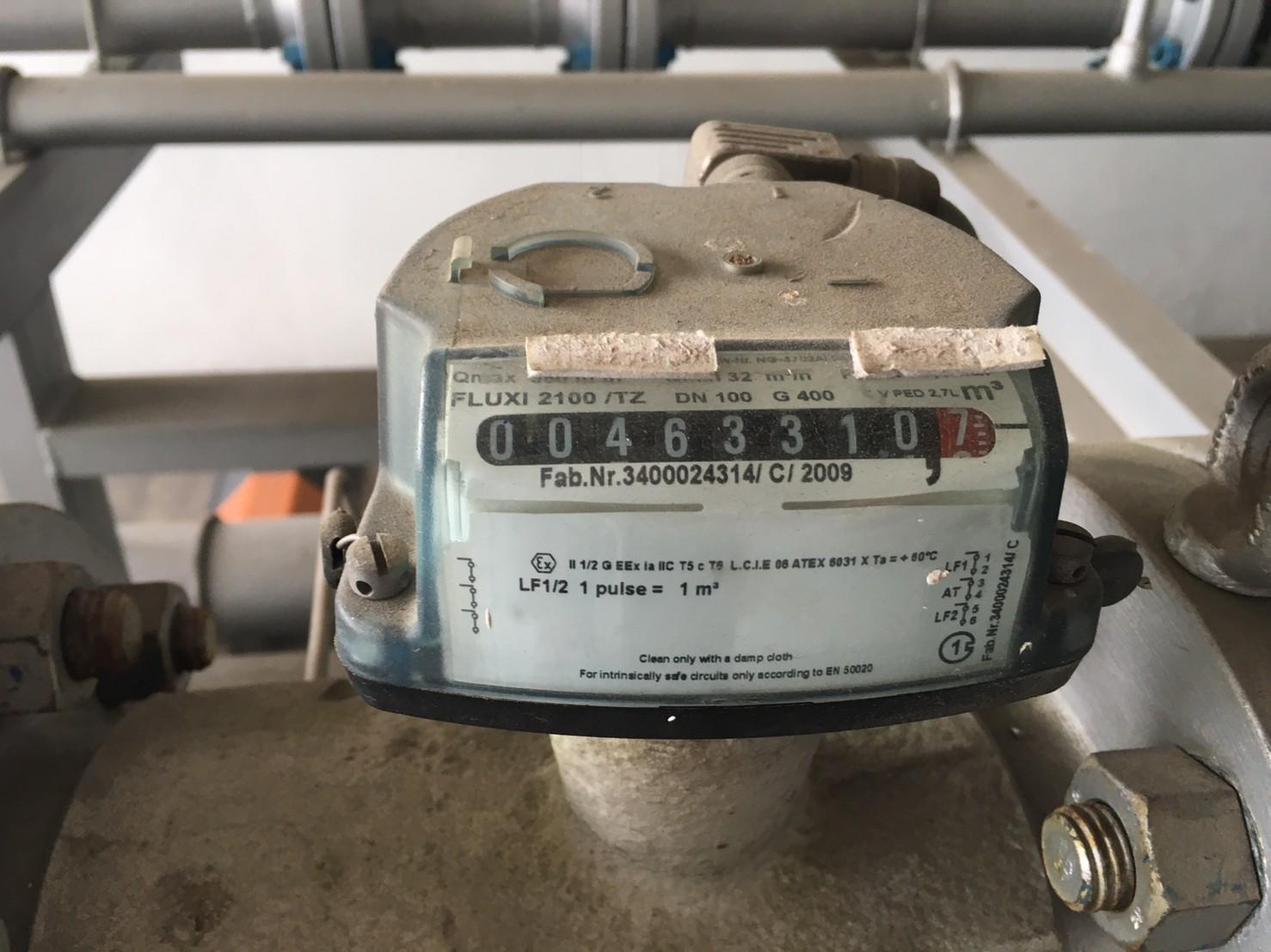analog_dial: (472, 400, 1031, 474)
